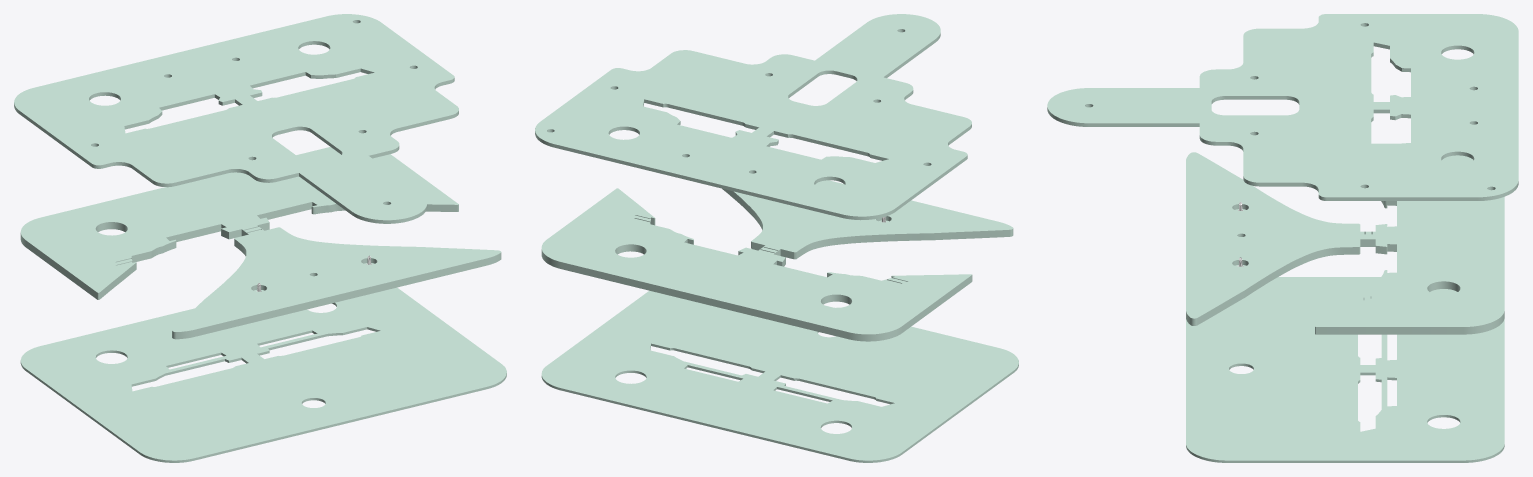
The model's file is MARINA3DEXP.glb.
The picture shows the model from 3 angles, left to right: view 1: azimuth 30°, elevation 25°; view 2: azimuth 150°, elevation 25°; view 3: azimuth 270°, elevation 25°; orthographic projection. The views are drawn at different scales.
Size of the model in its own units: 0.1561 by 0.1055 by 0.1695.
